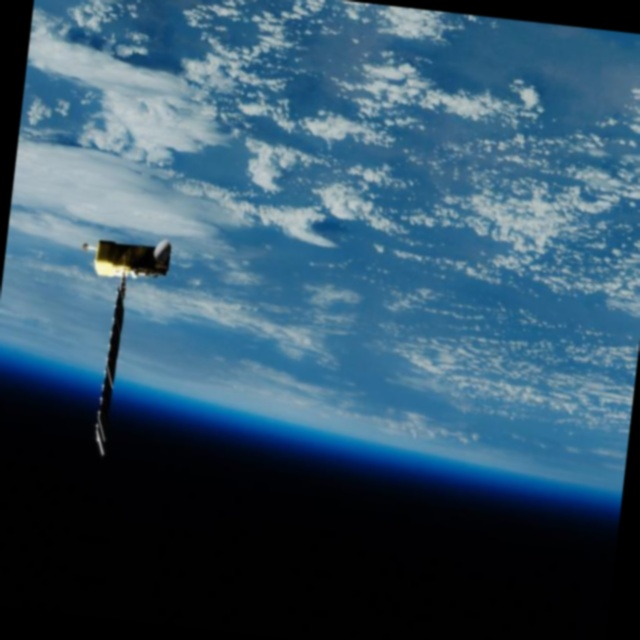satellite: (55, 211, 182, 469)
